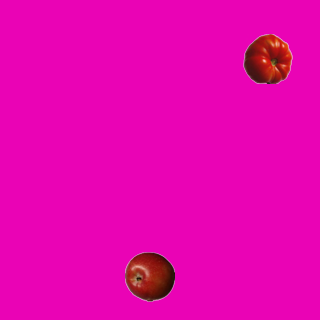Apple Braeburn: (124, 251, 174, 301)
Tomato 3: (242, 33, 292, 83)
